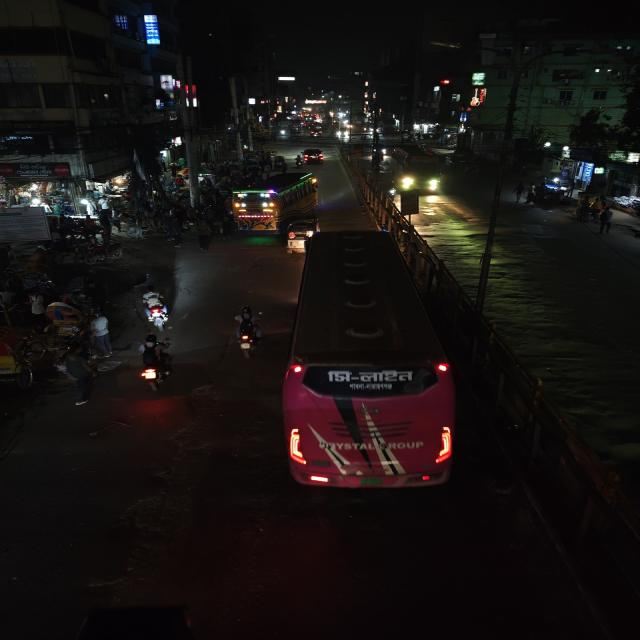bus: (286, 229, 452, 497), (230, 170, 321, 228), (389, 143, 443, 195)
car: (298, 147, 326, 165)
cng: (284, 216, 320, 252)
motorcycle: (132, 336, 177, 392), (230, 304, 267, 358), (135, 285, 175, 331)
pedestrian: (53, 347, 104, 404), (86, 310, 116, 352), (163, 216, 184, 246), (193, 222, 213, 252), (597, 207, 614, 234), (219, 212, 234, 240), (514, 181, 525, 203)
rickshaw: (0, 324, 35, 391), (43, 300, 86, 338)
